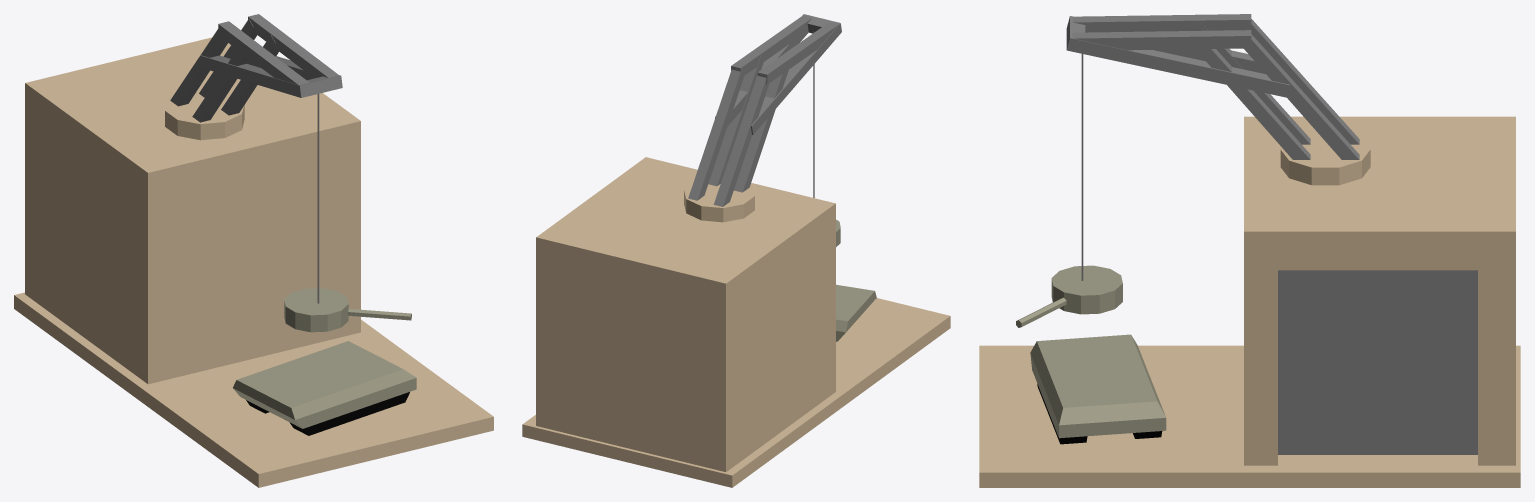
Rendered from tank_factory.glb.
3 views of the same model, side by side, from view 1: azimuth 30°, elevation 25°; view 2: azimuth 150°, elevation 25°; view 3: azimuth 270°, elevation 25° (orthographic). The views are drawn at different scales.
Visible parts, largest first — view 1: Cube, Cube.001, Cube.012, Cylinder.002, Cube.013, Cylinder; view 2: Cube, Cube.001, Cube.012; view 3: Cube, Cube.001, Cube.012, Cylinder.002, Cylinder.
Boxes of the visible parts, x1=… form: Cube: x1=14, y1=37, x2=493, y2=487; Cube.001: x1=170, y1=14, x2=342, y2=122; Cube.012: x1=233, y1=341, x2=416, y2=428; Cylinder.002: x1=284, y1=288, x2=411, y2=332; Cube.013: x1=289, y1=392, x2=409, y2=435; Cylinder: x1=317, y1=94, x2=319, y2=303; Cube: x1=522, y1=157, x2=950, y2=487; Cube.001: x1=688, y1=14, x2=841, y2=206; Cube.012: x1=836, y1=284, x2=876, y2=341; Cube: x1=979, y1=116, x2=1520, y2=487; Cube.001: x1=1066, y1=14, x2=1359, y2=159; Cube.012: x1=1030, y1=334, x2=1166, y2=438; Cylinder.002: x1=1016, y1=265, x2=1122, y2=327; Cylinder: x1=1081, y1=54, x2=1083, y2=280.
Size of the model in its own units: 27.67 by 39.78 by 49.84.
